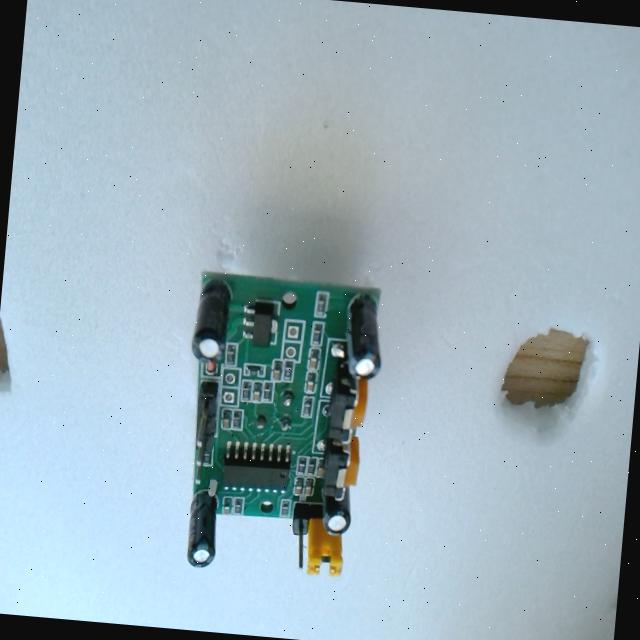Electrolytic capacitor: (341, 292, 386, 381), (190, 276, 232, 364), (184, 488, 220, 570), (314, 482, 354, 540)
IC: (222, 441, 292, 492)
